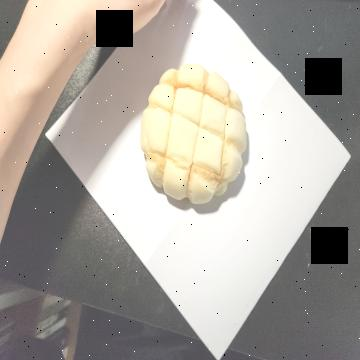melon_bread: (139, 65, 249, 208)
